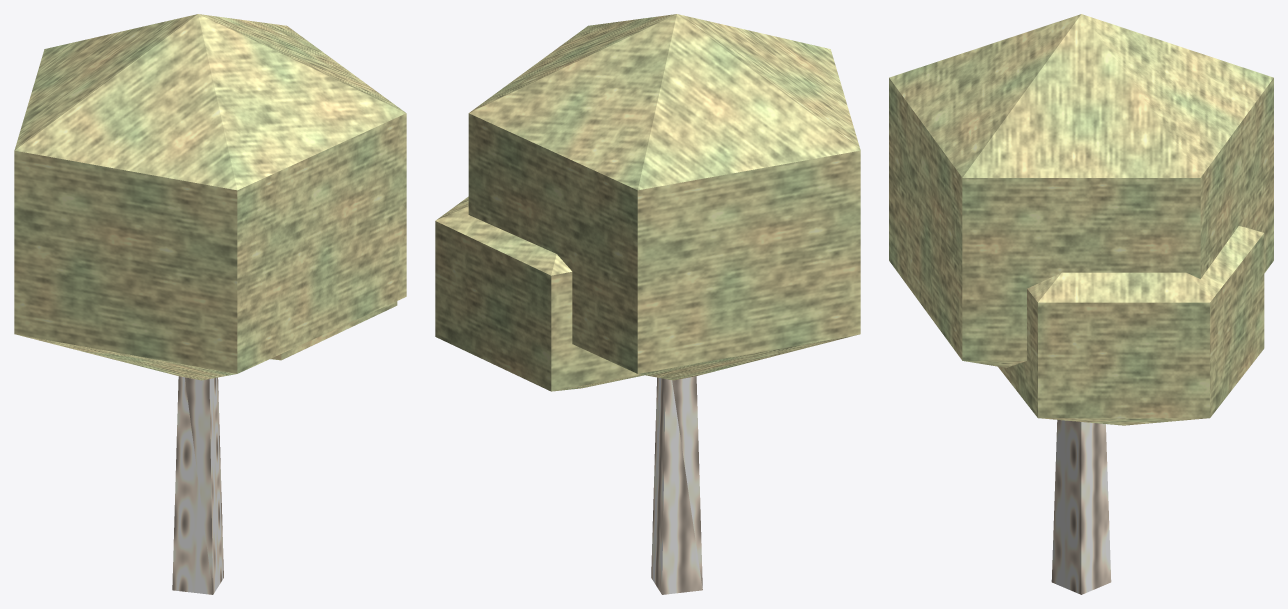
File: castagno_lod1.obj
The picture shows the model from 3 angles, left to right: view 1: azimuth 30°, elevation 25°; view 2: azimuth 150°, elevation 25°; view 3: azimuth 270°, elevation 25°; orthographic projection.
Visible parts, largest first — view 1: castagno_lod1; view 2: castagno_lod1; view 3: castagno_lod1.
Boxes of the visible parts, box(x1,y1,x2,y2) form: castagno_lod1: box(14, 14, 406, 594); castagno_lod1: box(435, 14, 860, 594); castagno_lod1: box(889, 14, 1273, 594).
Bounding box in the file's own units: 3.91 × 5.9 × 3.62.
3 materials, 3 textured.
